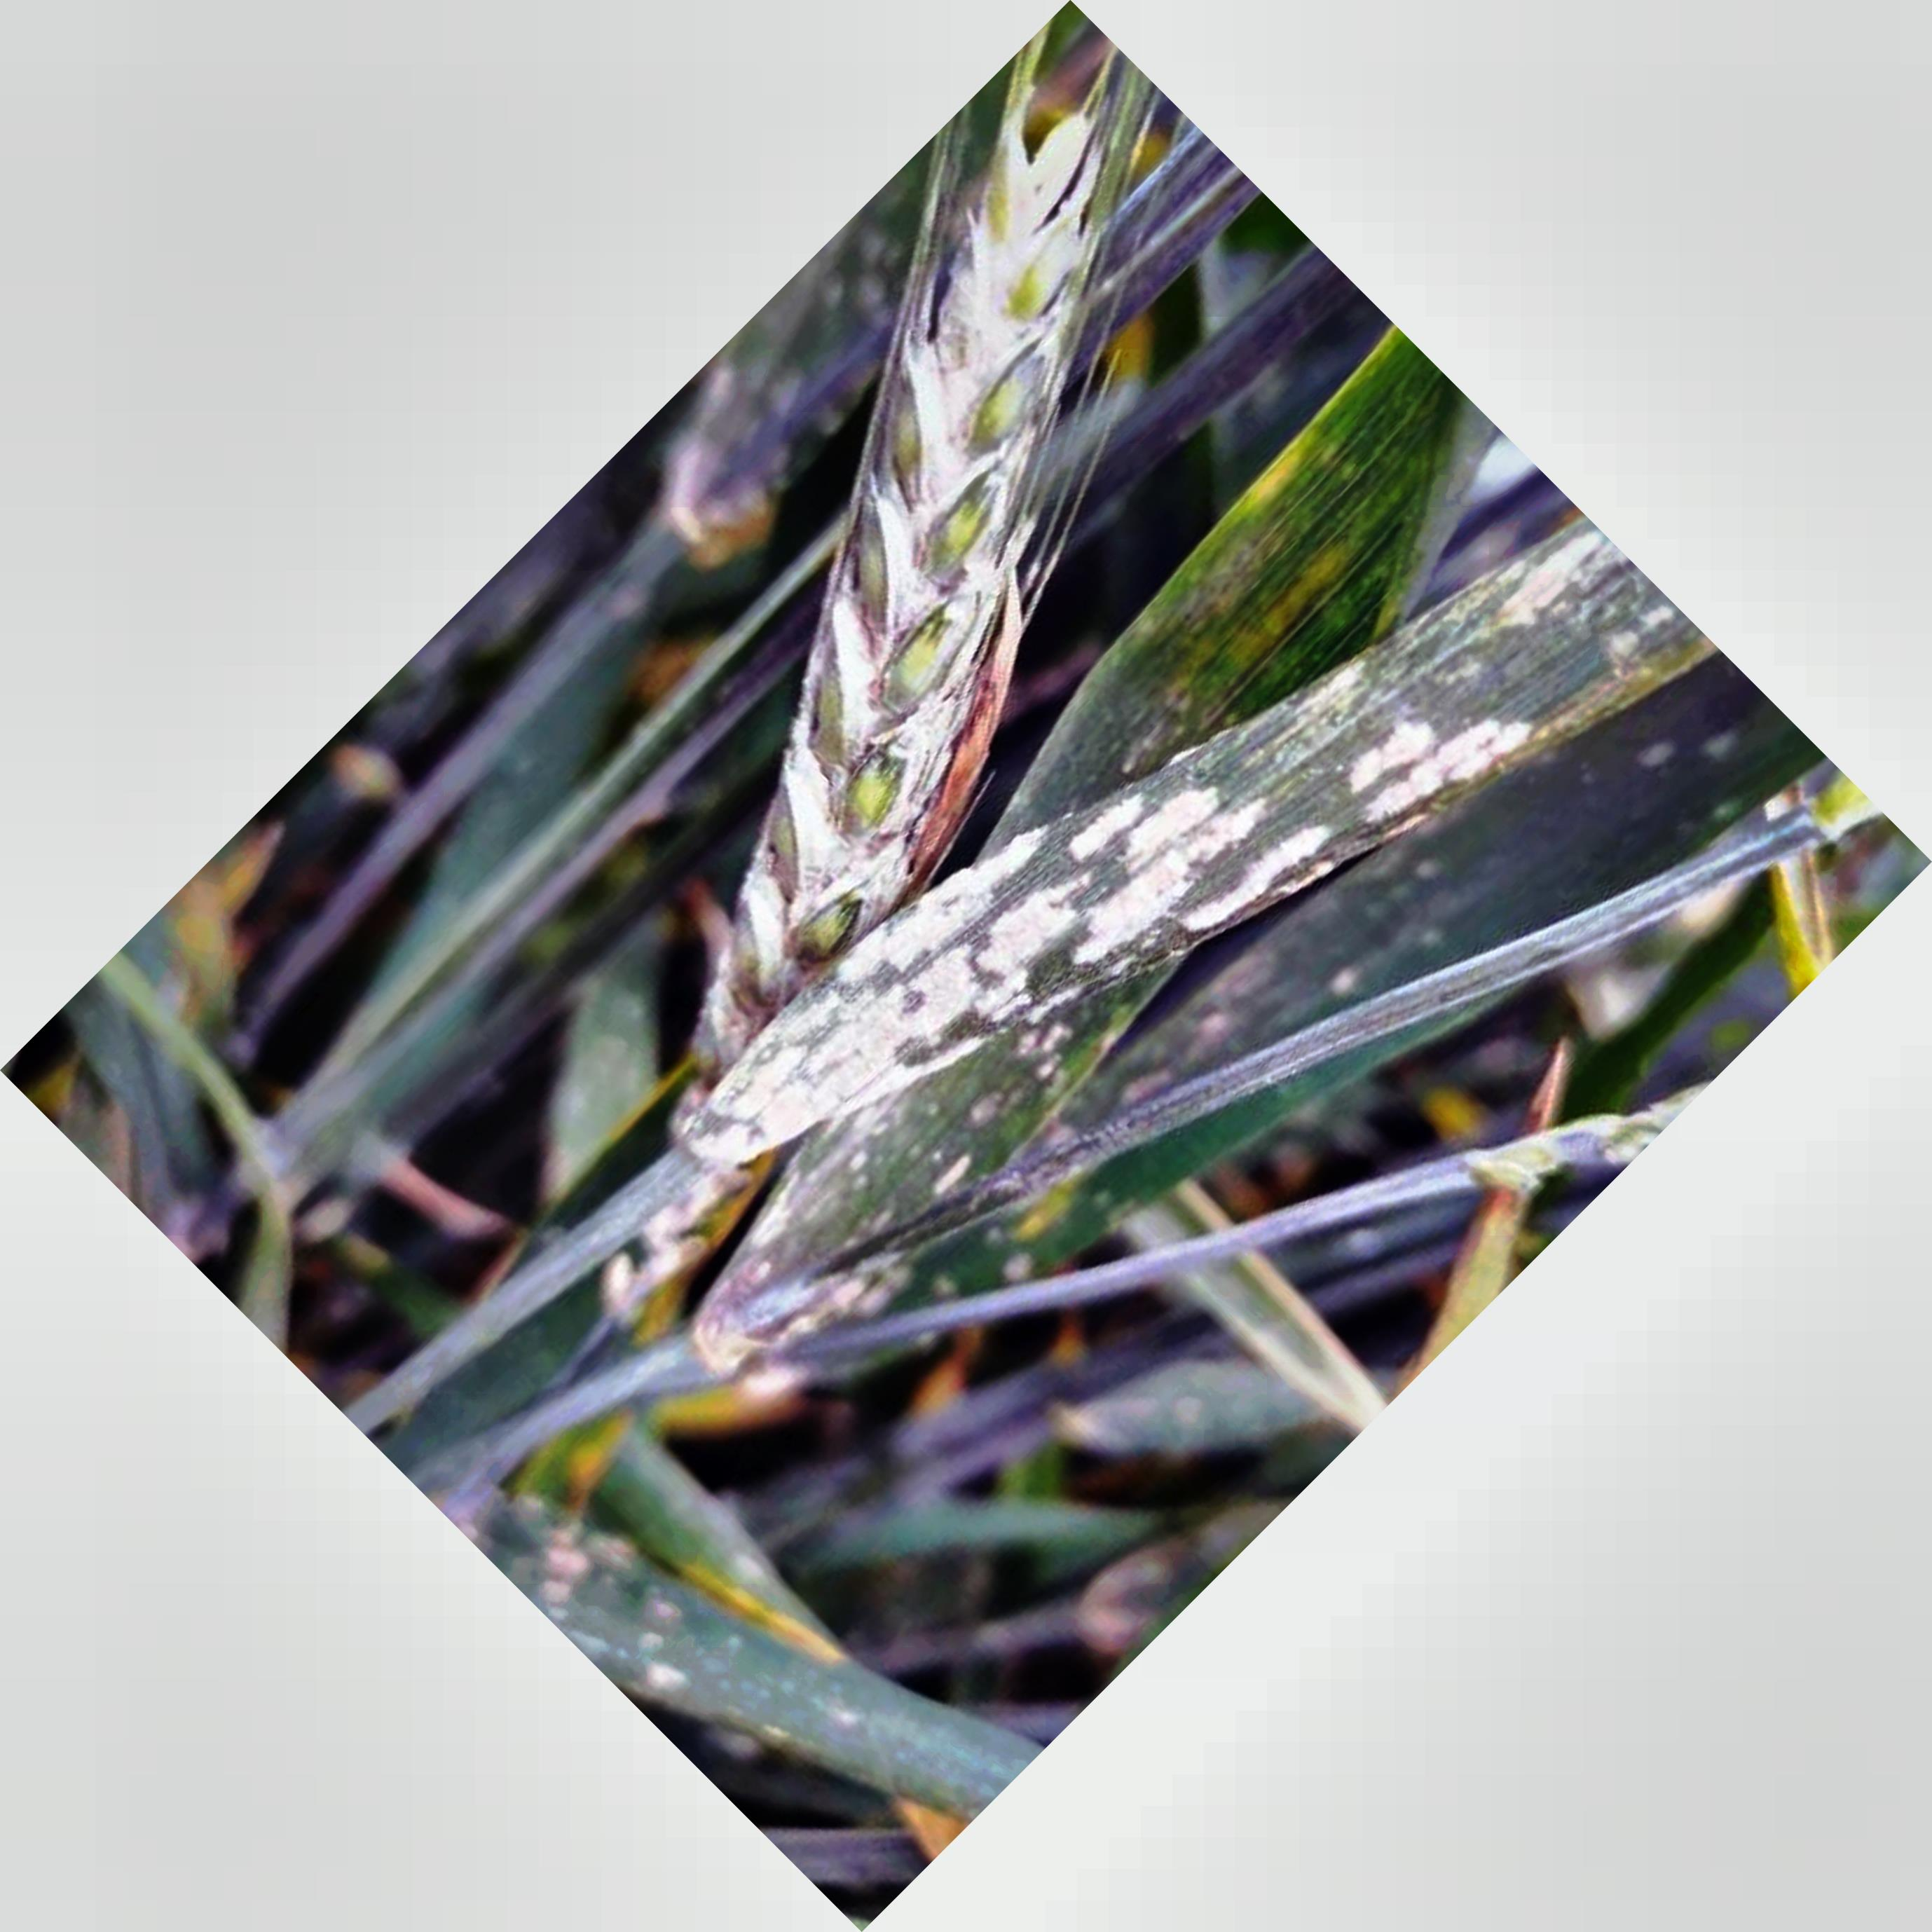Powdery Mildew: (738, 697, 1472, 1115)
